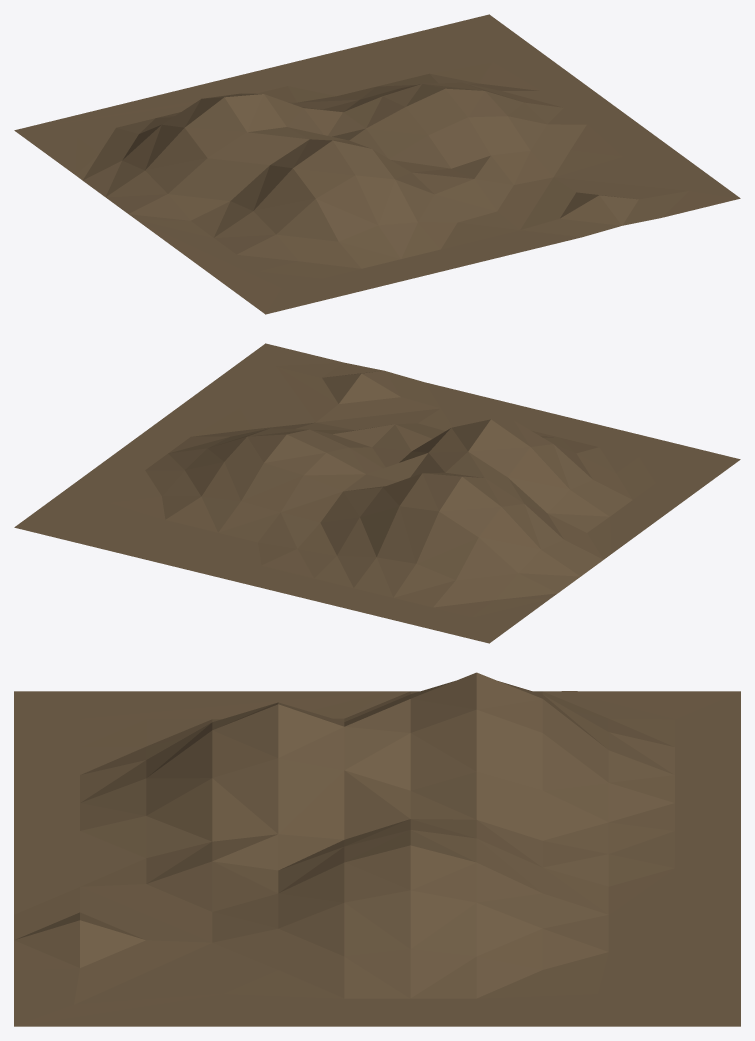
Rendered from dirtpile (1).fbx.
3 renders of one model, top to bottom at view 1: azimuth 30°, elevation 25°; view 2: azimuth 150°, elevation 25°; view 3: azimuth 270°, elevation 25°, orthographic. The views are drawn at different scales.
Parts seen in each view (by area): view 1: Plane; view 2: Plane; view 3: Plane.
Part boxes in pixels (box(x1,y1,x2,y2)): Plane: box(14, 14, 740, 314); Plane: box(14, 343, 740, 643); Plane: box(14, 672, 740, 1026).
Size of the model in its own units: 788 by 113 by 722.
